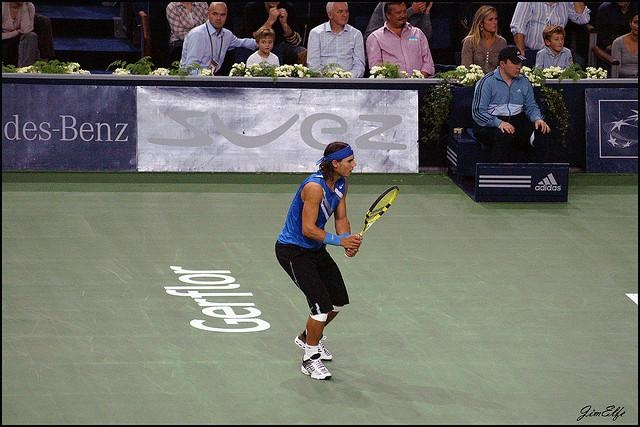person: (268, 139, 367, 381), (473, 46, 552, 152), (174, 1, 257, 77), (366, 2, 438, 80), (303, 1, 363, 87), (457, 7, 508, 66), (537, 25, 579, 74), (611, 14, 640, 76), (246, 24, 283, 72)
